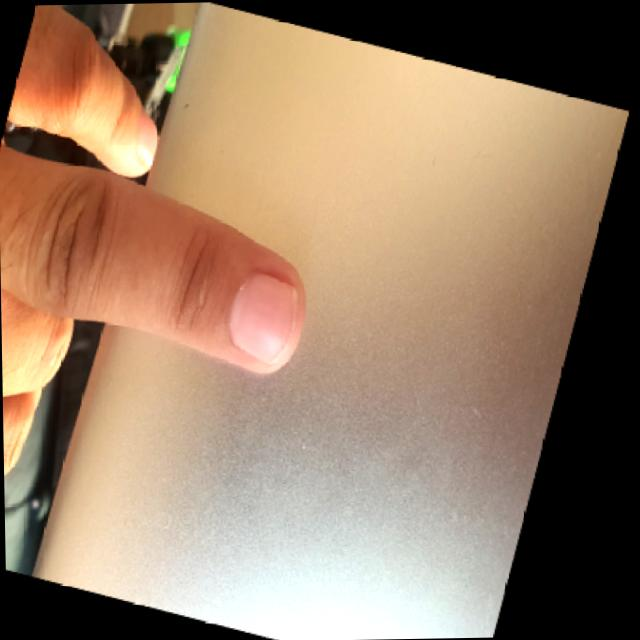Nail: (229, 273, 295, 364)
